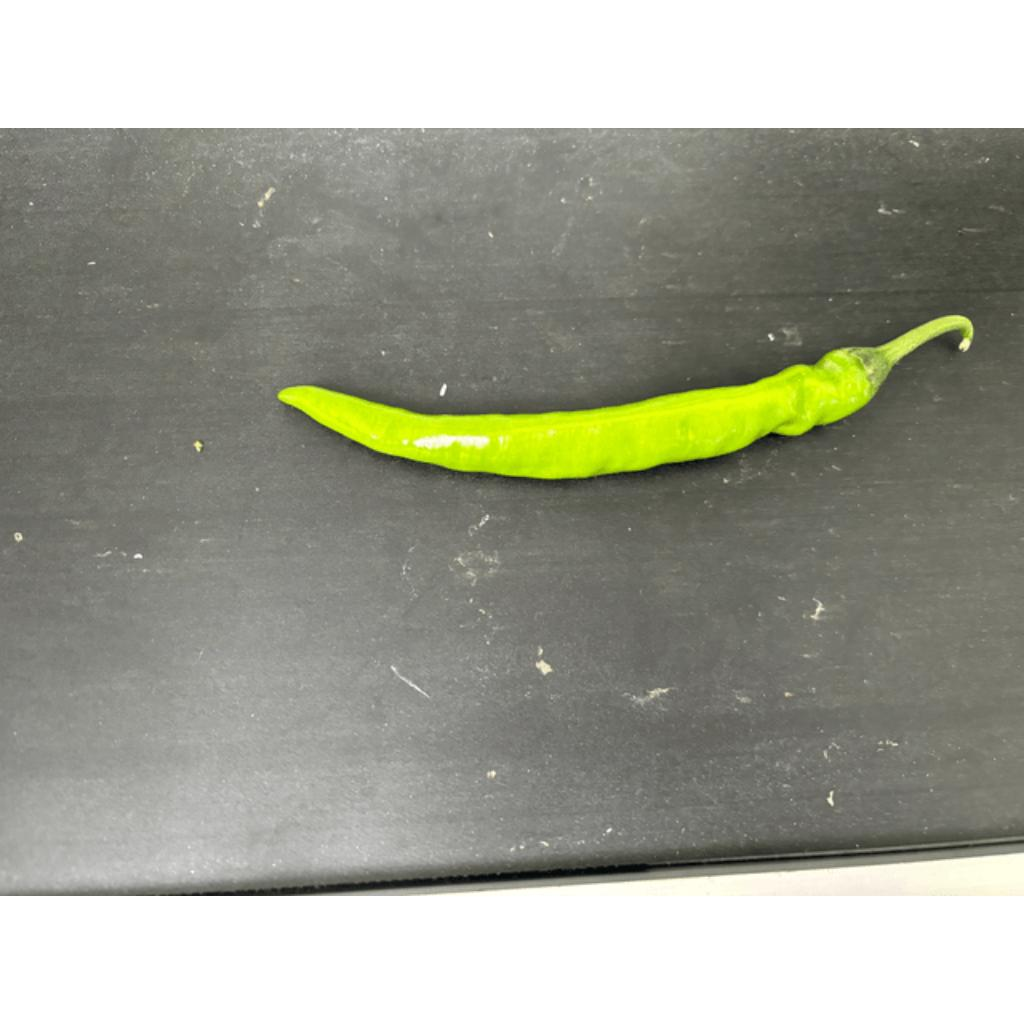chili: (277, 344, 898, 481)
